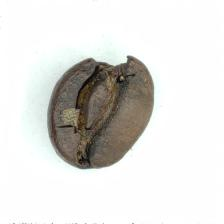NG: (66, 53, 136, 147)
